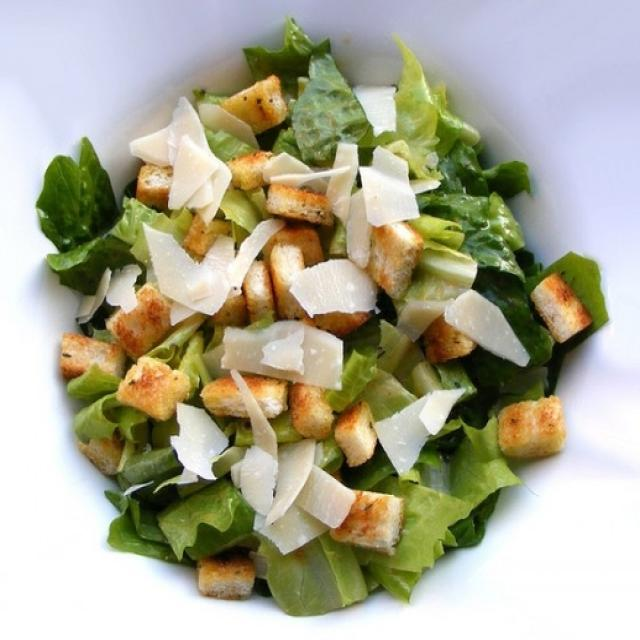蔬菜料理: (20, 24, 619, 607)
